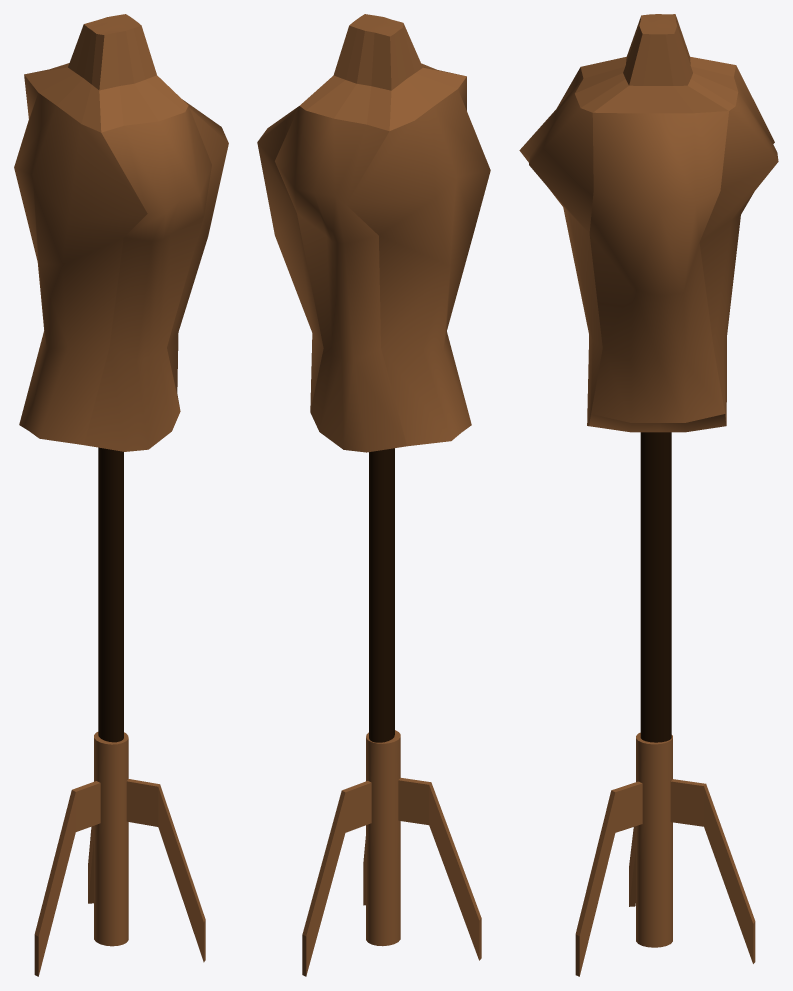
File: Mannequin_Statue.FBX
3 views of the same model, side by side, from view 1: azimuth 30°, elevation 25°; view 2: azimuth 150°, elevation 25°; view 3: azimuth 270°, elevation 25° (orthographic).
Parts seen in each view (by area): view 1: Box004, Cylinder002, Cylinder001; view 2: Box004, Cylinder002, Cylinder001; view 3: Box004, Cylinder002, Cylinder001.
Boxes of the visible parts, x1,y1,x2,y2 form: Box004: (14,14,228,451); Cylinder002: (34,732,205,976); Cylinder001: (98,447,123,742); Box004: (257,14,490,452); Cylinder002: (302,730,481,976); Cylinder001: (369,448,394,742); Box004: (519,14,778,432); Cylinder002: (575,732,755,976); Cylinder001: (640,432,671,742).
Size of the model in its own units: 17.32 by 76.5 by 19.38.
